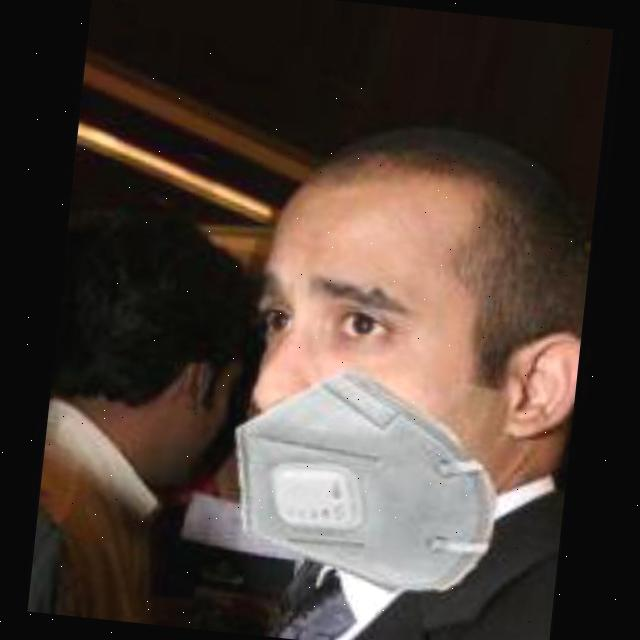suspicion: (215, 166, 585, 614)
